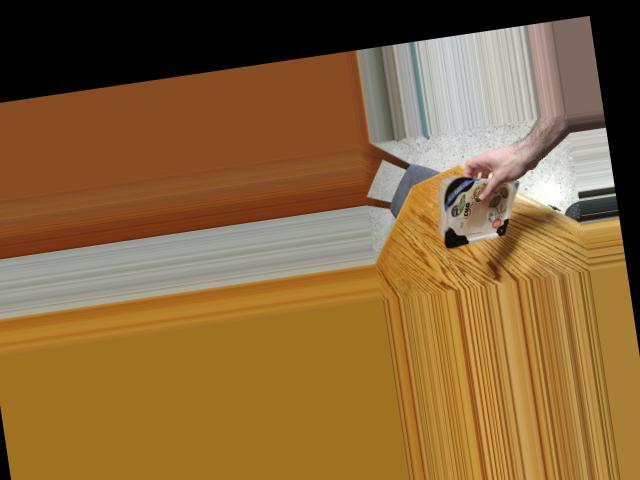cheese: (427, 167, 510, 246)
